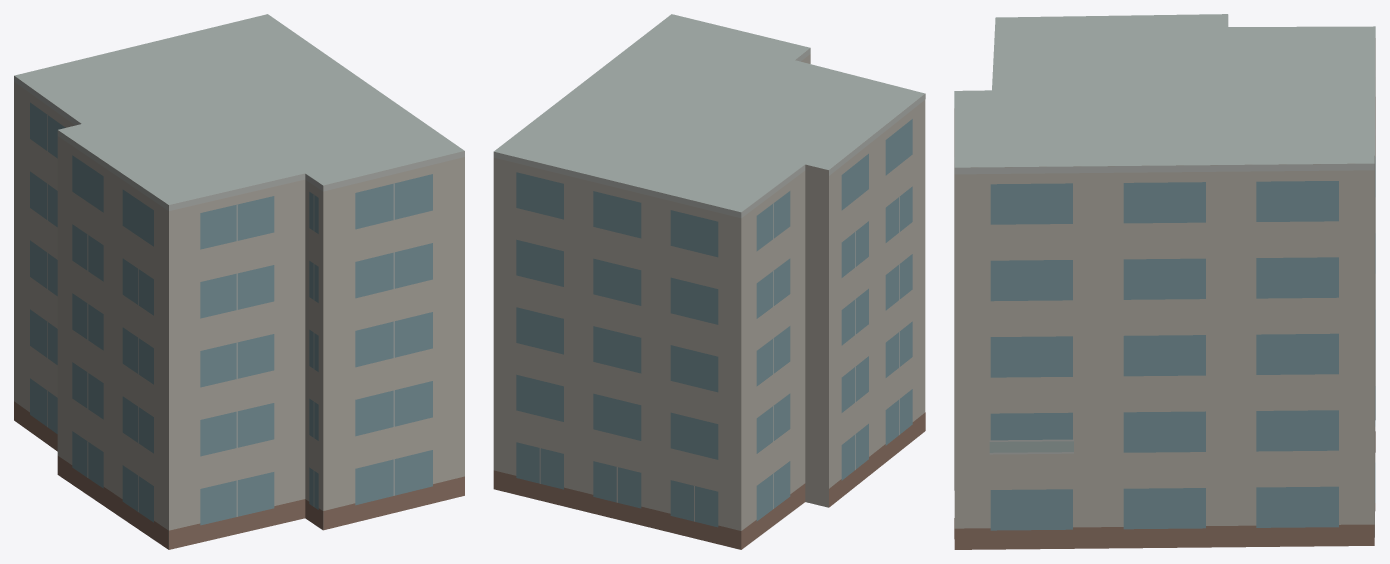
Rendered from survey-upis-32758363.glb.
3 views of the same model, side by side, from view 1: azimuth 30°, elevation 25°; view 2: azimuth 150°, elevation 25°; view 3: azimuth 270°, elevation 25° (orthographic). The views are drawn at different scales.
Parts seen in each view (by area): view 1: survey-upis-32758363.tmp; view 2: survey-upis-32758363.tmp; view 3: survey-upis-32758363.tmp.
Part boxes in pixels (<box>): survey-upis-32758363.tmp: <box>14,14,464,549</box>; survey-upis-32758363.tmp: <box>493,14,925,549</box>; survey-upis-32758363.tmp: <box>954,14,1375,549</box>.
Size of the model in its own units: 11.91 by 13.8 by 13.79.
